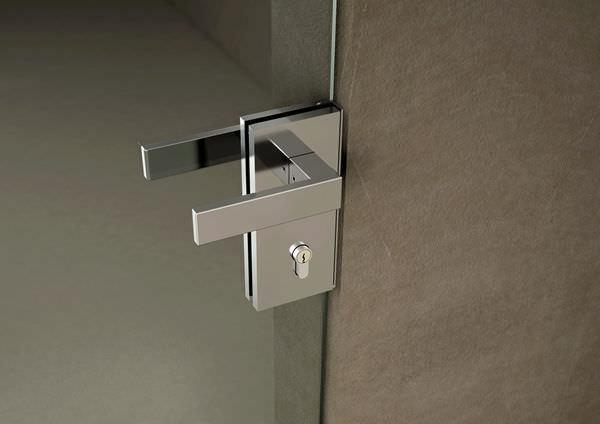doorhandle: (135, 126, 403, 273)
